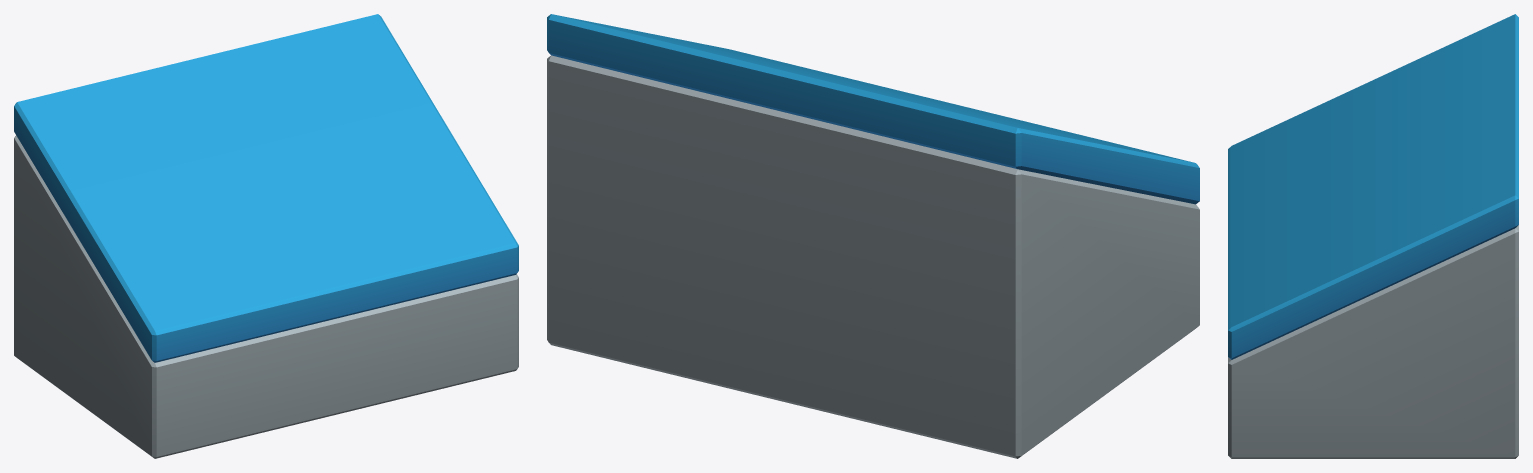
Rendered from kaykit_platform_slope_6x4x4_blue.glb.
3 renders of one model, left to right at view 1: azimuth 30°, elevation 25°; view 2: azimuth 150°, elevation 25°; view 3: azimuth 270°, elevation 25°, orthographic. The views are drawn at different scales.
Visible parts, largest first — view 1: platform_slope_6x4x4_blue_visual; view 2: platform_slope_6x4x4_blue_visual; view 3: platform_slope_6x4x4_blue_visual.
Boxes of the visible parts, left/top/right/bottom form: platform_slope_6x4x4_blue_visual: left=14, top=14, right=518, bottom=458; platform_slope_6x4x4_blue_visual: left=547, top=14, right=1199, bottom=458; platform_slope_6x4x4_blue_visual: left=1228, top=14, right=1518, bottom=458.
Size of what is drawn, in the model's own units: 6 by 4 by 4.
Materials: 1 (1 with a texture image).
